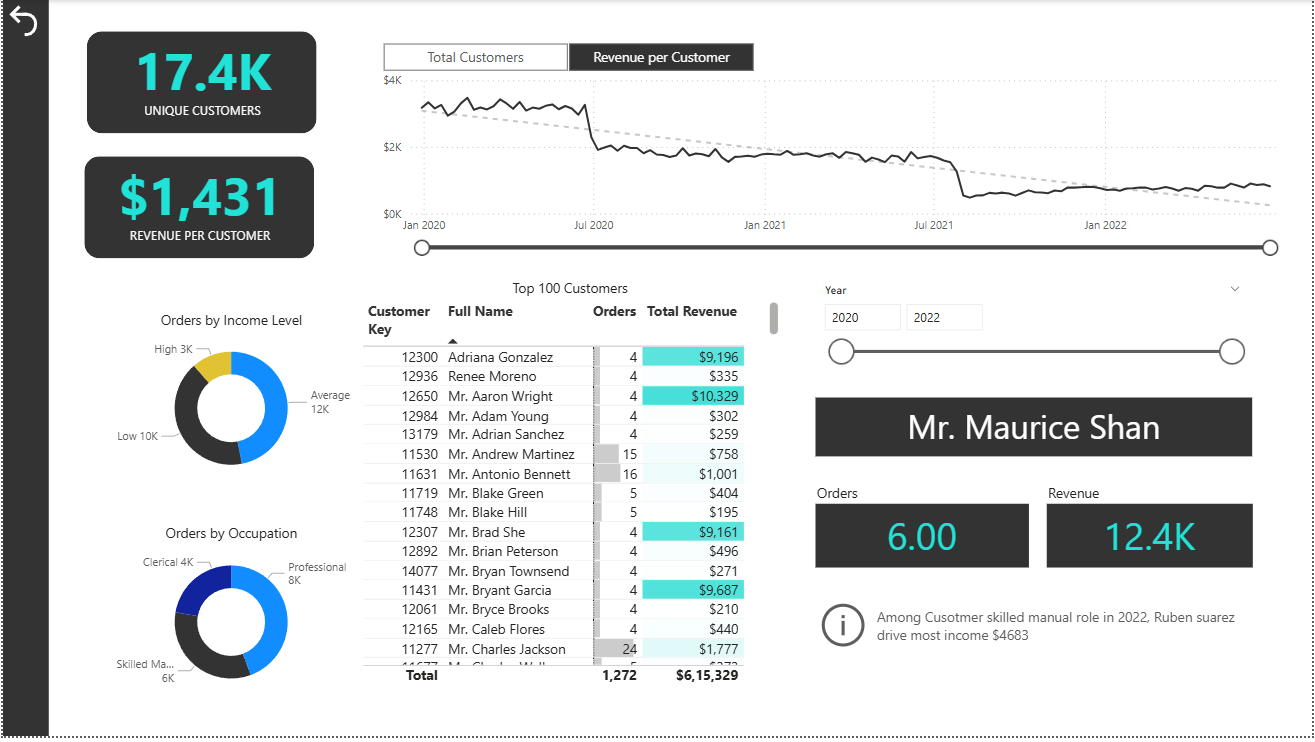

The page's visual inventory and layout, read from the dashboard file:
{"tool":"powerbi","page":{"name":"Customer Detail","canvas":[1280,720],"ordinal":3},"visuals":[{"type":"shape","box":[0,0,45,720],"z":0},{"type":"shape","box":[81.7,30,225,100],"z":1000},{"type":"lineChart","title":"Weekly Revenue","fields":{"Category":["Calendar Lookup.Date Hierarchy.Year","Calendar Lookup.Date Hierarchy.Start of Month","Calendar Lookup.Date Hierarchy.Start of Week","Calendar Lookup.Date Hierarchy.Date"],"Y":["Measure Table.Average Revenue per Customer"]},"box":[366.8,64.8,898.8,188.3],"z":1500},{"type":"shape","box":[80,152.7,225,100],"z":2000},{"type":"card","fields":{"Values":["Measure Table.Total Customers"]},"box":[66.7,0,256.2,150],"z":3000},{"type":"card","fields":{"Values":["Measure Table.Average Revenue per Customer"]},"box":[65,122.7,256.2,150],"z":4000},{"type":"donutChart","title":" Orders by Income Level","fields":{"Category":["Customer Lookup.Income Level"],"Y":["Measure Table.Total Orders"]},"box":[100,303.8,246.2,175],"z":6000},{"type":"donutChart","title":" Orders by Occupation ","fields":{"Y":["Measure Table.Total Orders"],"Category":["Customer Lookup.Occupation"]},"box":[100,512.5,246.2,175],"z":7000},{"type":"tableEx","title":"Top 100 Customers","fields":{"Values":["Customer Lookup.CustomerKey","Customer Lookup.Full Name","Measure Table.Total Orders","Measure Table.Total Revenue"]},"box":[346.2,272.5,417.5,401.2],"z":8000},{"type":"card","fields":{"Values":["Measure Table.Full Name (customer detail)"]},"box":[794.8,388.9,427.5,57.5],"z":9000},{"type":"card","fields":{"Values":["Measure Table.Total Orders(cc)"]},"box":[794.8,492.4,208.8,62.5],"z":10000},{"type":"card","fields":{"Values":["Measure Table.Total Revenue (Customer Detail)"]},"box":[1021.1,492.4,201.2,62.5],"z":11000},{"type":"textbox","box":[1017.3,468.9,208.8,36.2],"z":12000},{"type":"textbox","box":[791.2,468.1,209.1,35.5],"z":13000},{"type":"slicer","fields":{"Values":["Calendar Lookup.Date Hierarchy.Year"]},"box":[791.2,272.7,431.7,102.7],"z":14000},{"type":"actionButton","box":[795,584.5,428.1,54],"z":15000},{"type":"actionButton","box":[0,0,45.2,40.4],"z":16000},{"type":"slicer","fields":{"Values":["Customer Metric Selection 2.Customer Metric Selection"]},"box":[346.1,35.5,412.1,39.1],"z":20500}]}

Visuals, with their boxes in screenshot pixels (x1, y1, x2, y2), scaled from the page's 1280x720 canvas onto the 1315x742 screenshot:
shape: {"left": 0, "top": 0, "right": 46, "bottom": 741}
shape: {"left": 84, "top": 31, "right": 315, "bottom": 134}
"Weekly Revenue" lineChart: {"left": 377, "top": 67, "right": 1300, "bottom": 261}
shape: {"left": 82, "top": 157, "right": 313, "bottom": 260}
card - Measure Table.Total Customers: {"left": 69, "top": 0, "right": 332, "bottom": 155}
card - Measure Table.Average Revenue per Customer: {"left": 67, "top": 126, "right": 330, "bottom": 281}
" Orders by Income Level" donutChart: {"left": 103, "top": 313, "right": 356, "bottom": 493}
" Orders by Occupation " donutChart: {"left": 103, "top": 528, "right": 356, "bottom": 709}
"Top 100 Customers" tableEx: {"left": 356, "top": 281, "right": 785, "bottom": 694}
card - Measure Table.Full Name (customer detail): {"left": 817, "top": 401, "right": 1256, "bottom": 460}
card - Measure Table.Total Orders(cc): {"left": 817, "top": 507, "right": 1031, "bottom": 572}
card - Measure Table.Total Revenue (Customer Detail): {"left": 1049, "top": 507, "right": 1256, "bottom": 572}
textbox: {"left": 1045, "top": 483, "right": 1260, "bottom": 521}
textbox: {"left": 813, "top": 482, "right": 1028, "bottom": 519}
slicer - Calendar Lookup.Date Hierarchy.Year: {"left": 813, "top": 281, "right": 1256, "bottom": 387}
actionButton: {"left": 817, "top": 602, "right": 1257, "bottom": 658}
actionButton: {"left": 0, "top": 0, "right": 46, "bottom": 42}
slicer - Customer Metric Selection 2.Customer Metric Selection: {"left": 356, "top": 37, "right": 779, "bottom": 77}
